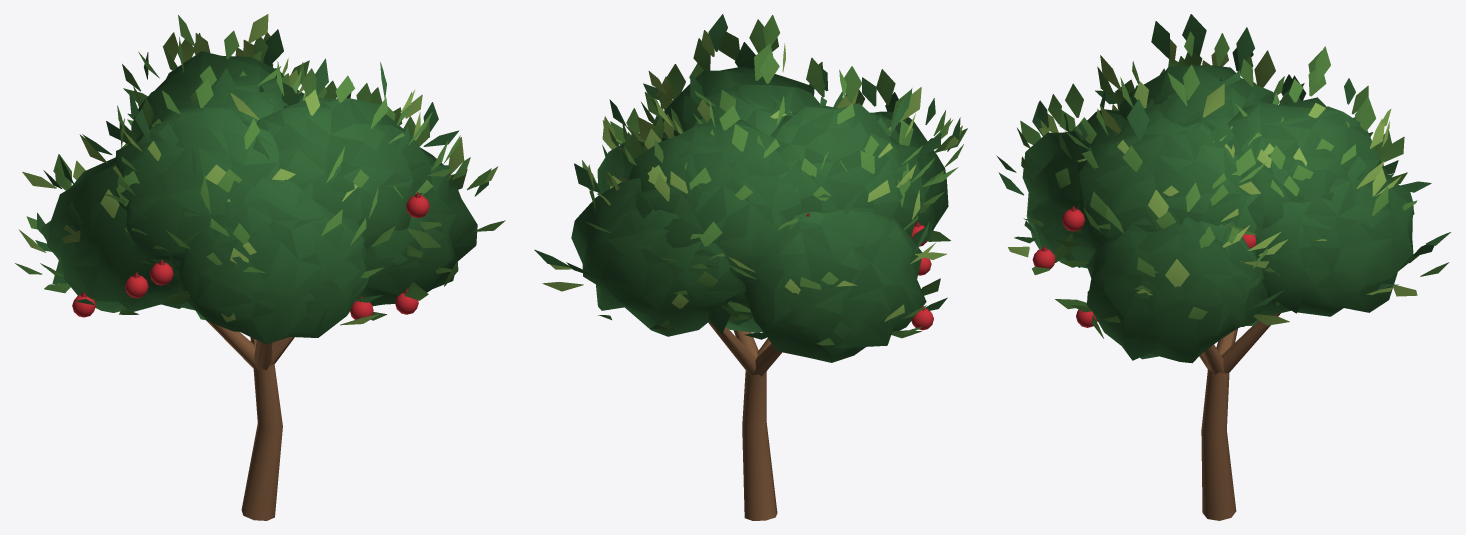
The model's file is ZB_bitki_nar.glb.
3 views of the same model, side by side, from view 1: azimuth 30°, elevation 25°; view 2: azimuth 150°, elevation 25°; view 3: azimuth 270°, elevation 25° (orthographic). The views are drawn at different scales.
Parts seen in each view (by area): view 1: ZB_bitki_nar; view 2: ZB_bitki_nar; view 3: ZB_bitki_nar.
Boxes of the visible parts, x1,y1,x2,y2 form: ZB_bitki_nar: [15, 14, 505, 520]; ZB_bitki_nar: [534, 14, 967, 520]; ZB_bitki_nar: [996, 14, 1450, 520].
Size of the model in its own units: 4.3 by 4.74 by 4.3.
